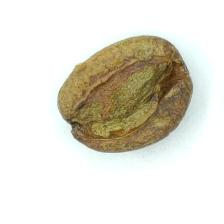NG: (66, 48, 193, 141)
